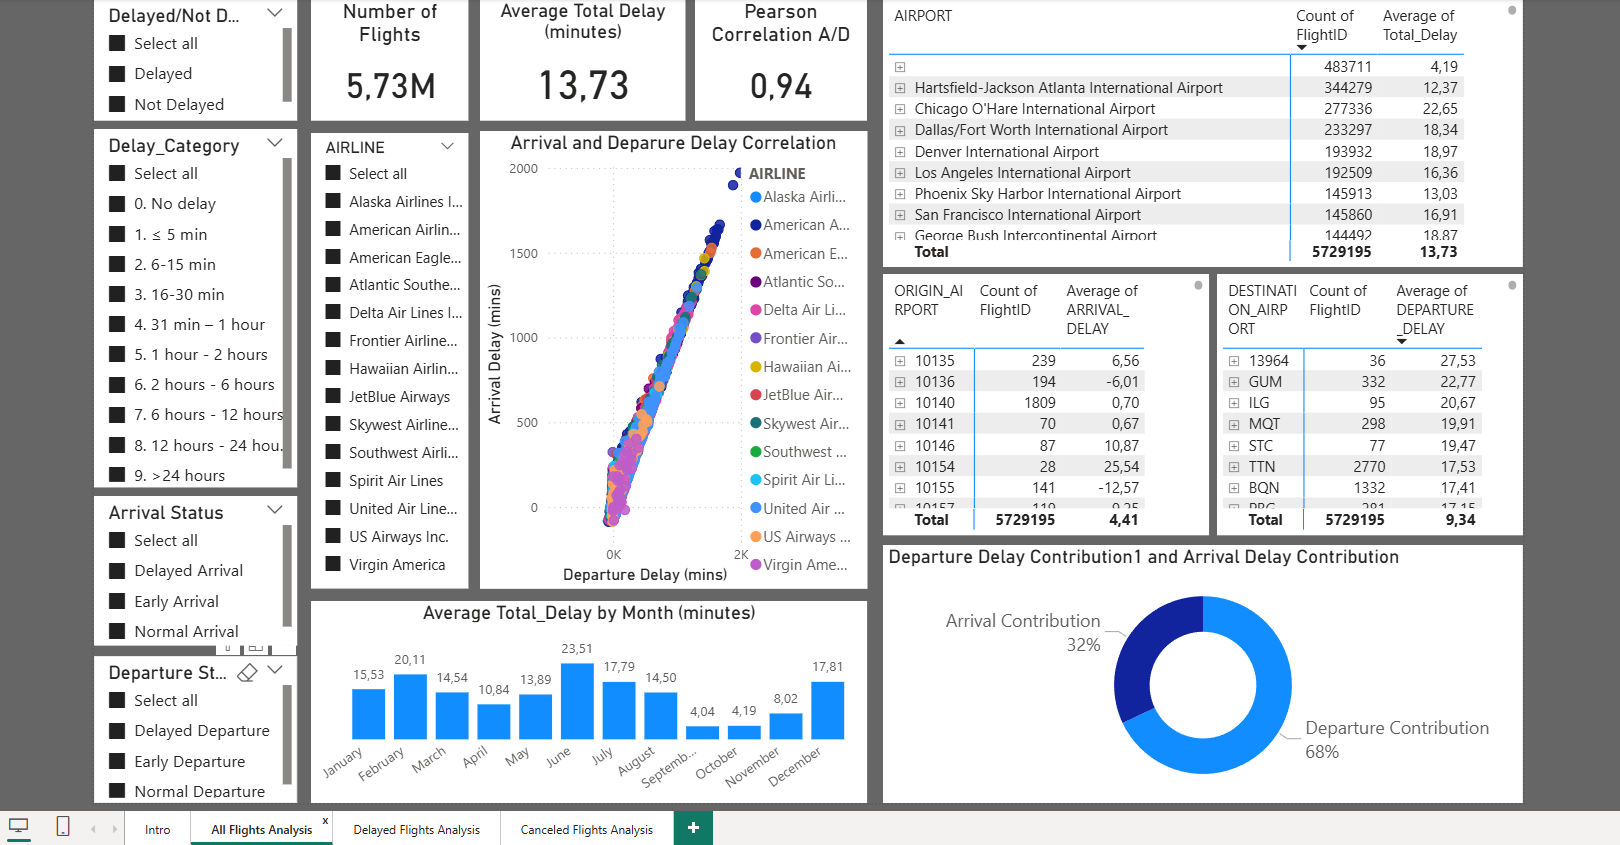

What the dashboard file says about the page in this screenshot:
{"tool":"powerbi","page":{"name":"All Flights Analysis","canvas":[1280,720],"ordinal":1},"visuals":[{"type":"scatterChart","title":"Arrival and Deparure Delay Correlation","fields":{"X":["Avg(flights.DEPARTURE_DELAY)"],"Y":["Avg(flights.ARRIVAL_DELAY)"],"Series":["airlines.AIRLINE"],"Category":["flights.FlightID"]},"box":[345.7,118.2,346.6,410.1],"z":0},{"type":"slicer","fields":{"Values":["flights.Delayed/Not Delayed Flights"]},"box":[0,0,181.8,109.3],"z":1000},{"type":"slicer","title":"Total Delay Range","fields":{"Values":["flights.Delay_Category"]},"box":[0,116.4,181.8,320.6],"z":2000},{"type":"card","title":"Number of Flights","fields":{"Values":["CountNonNull(flights.FLIGHT_NUMBER)"]},"box":[194.3,0,141.5,109.3],"z":3000},{"type":"card","title":"Pearson Correlation A/D","fields":{"Values":["airlines.PearsonCorrelation"]},"box":[538.2,0,154,109.3],"z":4000},{"type":"slicer","fields":{"Values":["flights.Delayed_on_Departure"]},"box":[0,588.4,181.8,131.6],"z":5000},{"type":"slicer","fields":{"Values":["flights.Arrivel Status"]},"box":[0,445.1,181.8,134.3],"z":6000},{"type":"columnChart","title":"Average Total_Delay by Month (minutes)","fields":{"Category":["months.month_name.Variation.Date Hierarchy.Year","months.month_name.Variation.Date Hierarchy.Quarter","months.month_name.Variation.Date Hierarchy.Month","months.month_name.Variation.Date Hierarchy.Day"],"Y":["Avg(flights.Total_Delay)"]},"box":[194.3,539.1,497.9,180.9],"z":9000},{"type":"slicer","fields":{"Values":["airlines.AIRLINE"]},"box":[194.3,120,141.5,408.4],"z":10000},{"type":"pivotTable","fields":{"Rows":["flights.DESTINATION_AIRPORT","airlines.AIRLINE"],"Values":["CountNonNull(flights.FlightID)","Avg(flights.DEPARTURE_DELAY)"]},"box":[1005.7,246.3,274,233.7],"z":11000},{"type":"pivotTable","fields":{"Rows":["flights.ORIGIN_AIRPORT","airlines.AIRLINE"],"Values":["CountNonNull(flights.FlightID)","Avg(flights.ARRIVAL_DELAY)"]},"box":[706.6,246.3,291.9,233.7],"z":12000},{"type":"pivotTable","fields":{"Rows":["airports.AIRPORT","airlines.AIRLINE"],"Values":["CountNonNull(flights.FlightID)","Avg(flights.Total_Delay)"]},"box":[706.6,0,573.1,240],"z":13000},{"type":"card","title":"Average Total Delay (minutes)","fields":{"Values":["Avg(flights.Total_Delay)"]},"box":[345.7,0,184.5,109.3],"z":14000},{"type":"donutChart","title":"Departure Delay Contribution1 and Arrival Delay Contribution","fields":{"Y":["flights.DepartureContribution1","flights.ArrivalContribution1"]},"box":[706.6,489,573.1,231.9],"z":15000}]}

Visuals, with their boxes in screenshot pixels (x1, y1, x2, y2):
"Arrival and Deparure Delay Correlation" scatterChart: box=[474, 132, 860, 589]
slicer - flights.Delayed/Not Delayed Flights: box=[89, 0, 291, 122]
"Total Delay Range" slicer: box=[89, 130, 291, 487]
"Number of Flights" card: box=[305, 0, 463, 122]
"Pearson Correlation A/D" card: box=[689, 0, 860, 122]
slicer - flights.Delayed_on_Departure: box=[89, 656, 291, 803]
slicer - flights.Arrivel Status: box=[89, 496, 291, 646]
"Average Total_Delay by Month (minutes)" columnChart: box=[305, 601, 860, 803]
slicer - airlines.AIRLINE: box=[305, 134, 463, 589]
pivotTable - flights.DESTINATION_AIRPORT x airlines.AIRLINE: box=[1210, 275, 1515, 535]
pivotTable - flights.ORIGIN_AIRPORT x airlines.AIRLINE: box=[876, 275, 1202, 535]
pivotTable - airports.AIRPORT x airlines.AIRLINE: box=[876, 0, 1515, 268]
"Average Total Delay (minutes)" card: box=[474, 0, 680, 122]
"Departure Delay Contribution1 and Arrival Delay Contribution" donutChart: box=[876, 545, 1515, 804]
